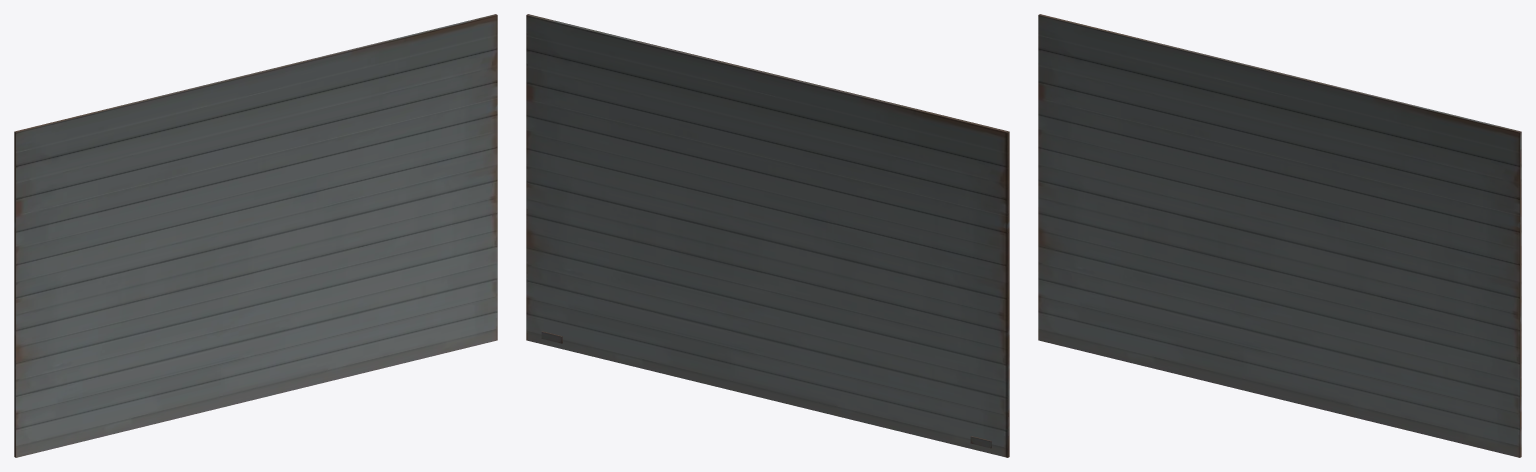
3 views of the same model, side by side, from view 1: azimuth 30°, elevation 25°; view 2: azimuth 150°, elevation 25°; view 3: azimuth 330°, elevation 25° (orthographic).
Parts seen in each view (by area): view 1: body0_model0_lod0_mesh0; view 2: body0_model0_lod0_mesh0; view 3: body0_model0_lod0_mesh0.
Part boxes in pixels (<box>): body0_model0_lod0_mesh0: <box>14,14,497,457</box>; body0_model0_lod0_mesh0: <box>526,14,1009,457</box>; body0_model0_lod0_mesh0: <box>1038,14,1521,457</box>.
Size of the model in its own units: 184 by 118 by 1.48.
1 material, 1 textured.
